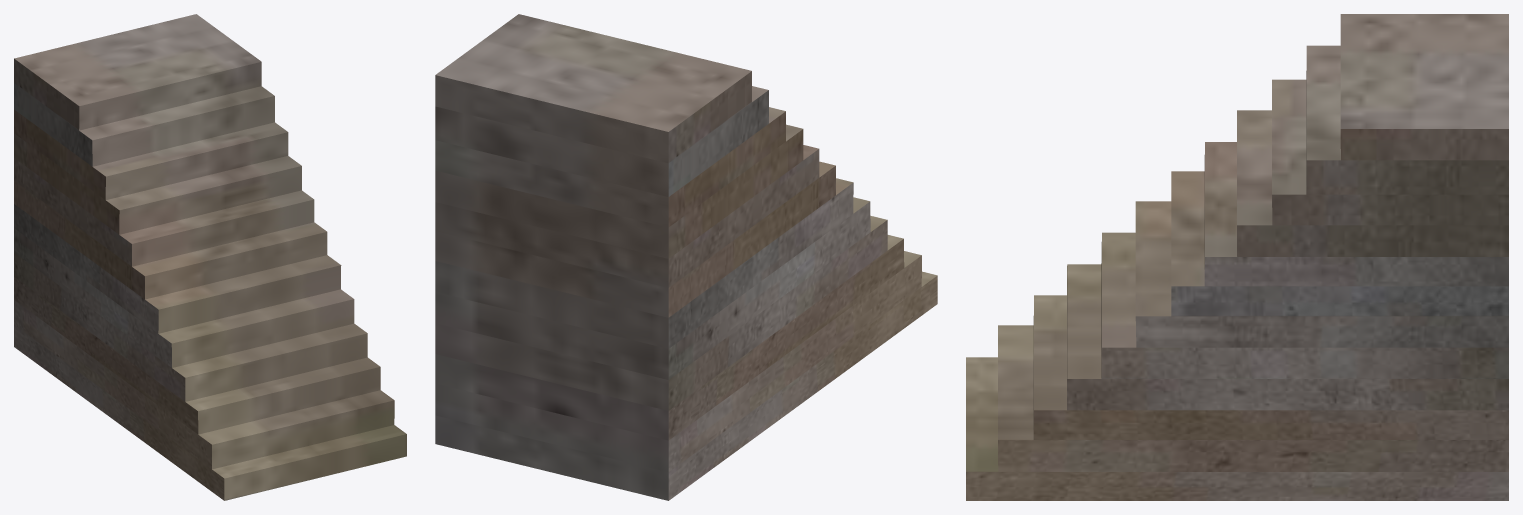
File: stairs_stone.obj
3 renders of one model, left to right at view 1: azimuth 30°, elevation 25°; view 2: azimuth 150°, elevation 25°; view 3: azimuth 270°, elevation 25°, orthographic. The views are drawn at different scales.
Visible parts, largest first — view 1: Cube_Cube_(null)_Cube; view 2: Cube_Cube_(null)_Cube; view 3: Cube_Cube_(null)_Cube.
Boxes of the visible parts, x1,y1,x2,y2 form: Cube_Cube_(null)_Cube: (14,14,406,500); Cube_Cube_(null)_Cube: (435,14,937,500); Cube_Cube_(null)_Cube: (966,14,1508,500).
Size of the model in its own units: 1 by 1.52 by 2.01.
Materials: 1 (1 with a texture image).
